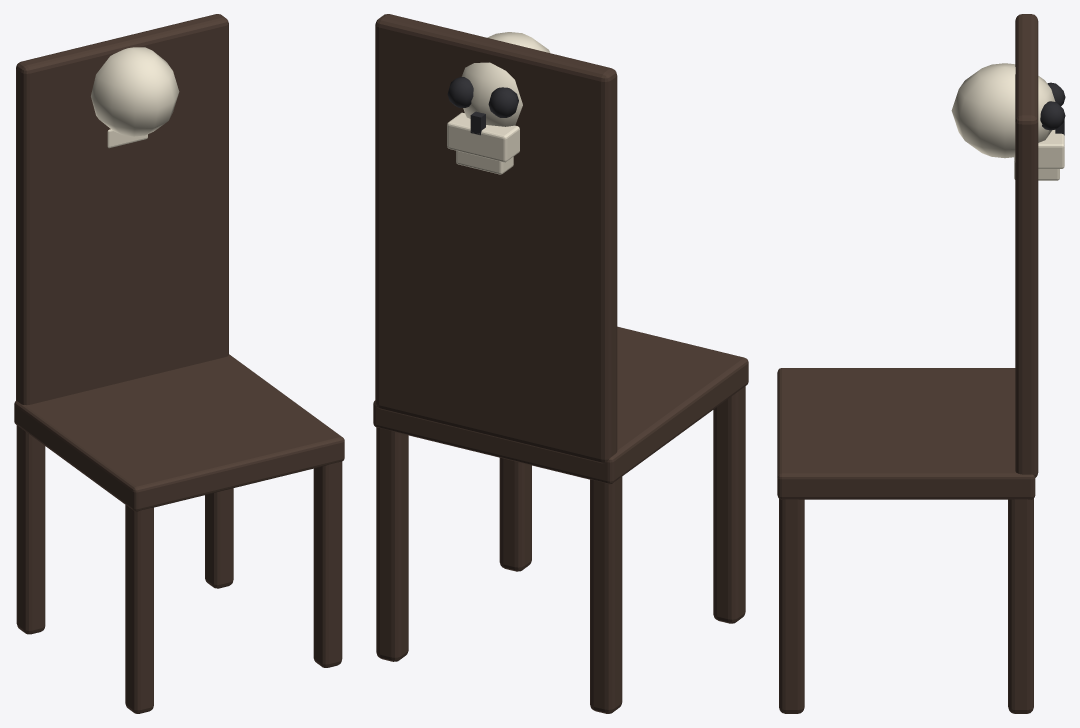
Rendered from chair_skull_back.glb.
3 views of the same model, side by side, from view 1: azimuth 30°, elevation 25°; view 2: azimuth 150°, elevation 25°; view 3: azimuth 270°, elevation 25° (orthographic). The views are drawn at different scales.
Parts seen in each view (by area): view 1: GD_chair_skull_back__m0, GD_chair_skull_back__m2; view 2: GD_chair_skull_back__m0, GD_chair_skull_back__m2, GD_chair_skull_back__m1; view 3: GD_chair_skull_back__m0, GD_chair_skull_back__m2, GD_chair_skull_back__m1.
Boxes of the visible parts, left/top/right/bottom form: GD_chair_skull_back__m0: left=14, top=14, right=344, bottom=713; GD_chair_skull_back__m2: left=91, top=47, right=179, bottom=148; GD_chair_skull_back__m0: left=373, top=14, right=748, bottom=713; GD_chair_skull_back__m2: left=447, top=32, right=550, bottom=174; GD_chair_skull_back__m1: left=447, top=77, right=518, bottom=135; GD_chair_skull_back__m0: left=777, top=14, right=1038, bottom=713; GD_chair_skull_back__m2: left=951, top=63, right=1064, bottom=180; GD_chair_skull_back__m1: left=1040, top=82, right=1065, bottom=135.
Bounding box in the file's own units: 0.45 × 1.15 × 0.5026.
